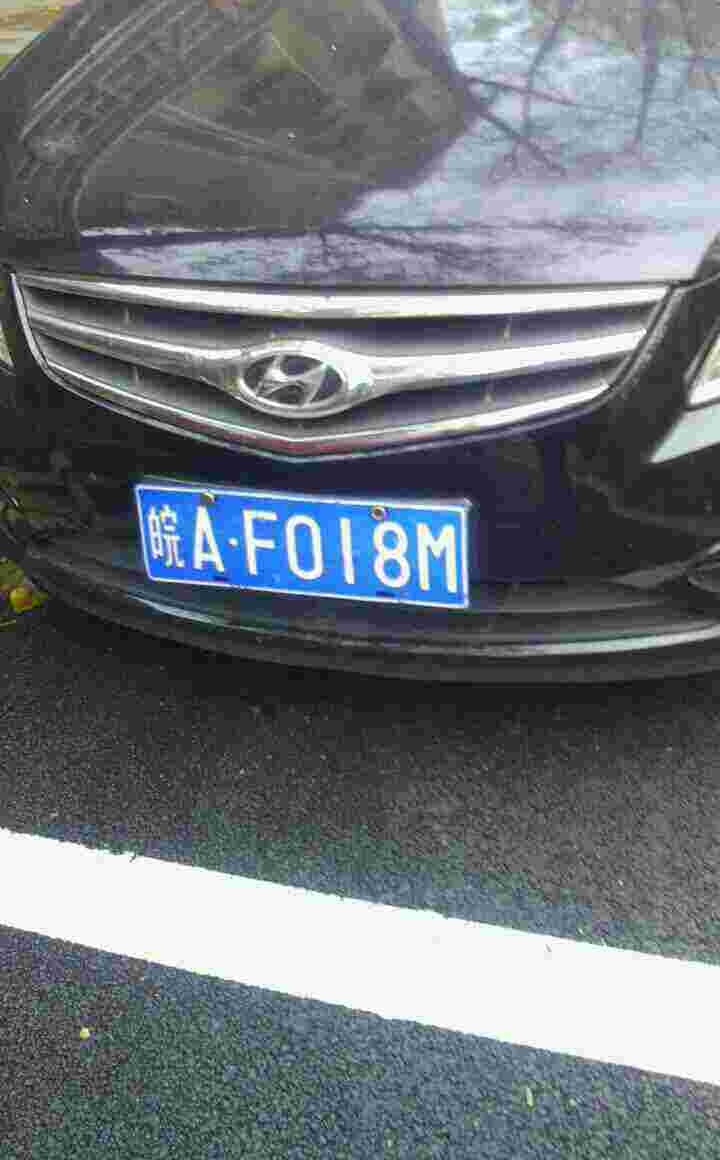license_plate: (133, 483, 479, 602)
